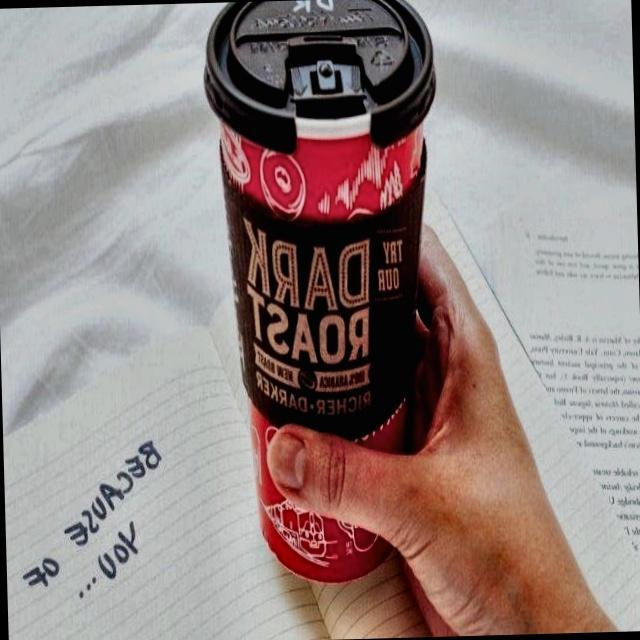timmies: (202, 0, 452, 589)
